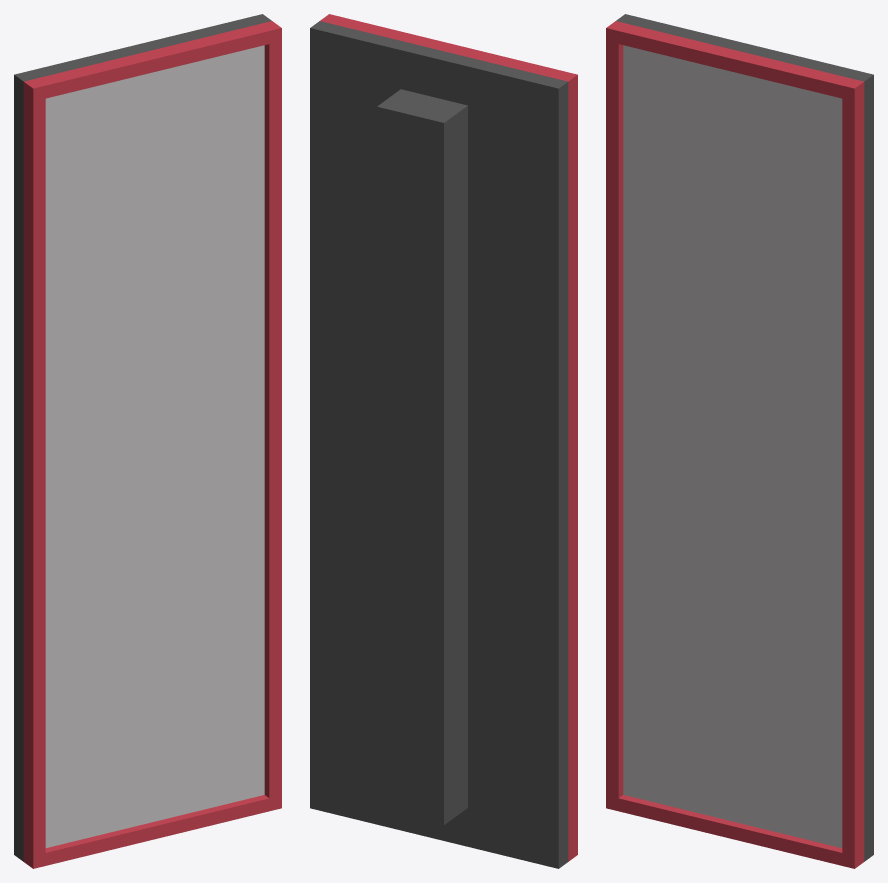
File: Wall Sign.fbx
The picture shows the model from 3 angles, left to right: view 1: azimuth 30°, elevation 25°; view 2: azimuth 150°, elevation 25°; view 3: azimuth 330°, elevation 25°; orthographic projection.
Parts seen in each view (by area): view 1: Wall Sign; view 2: Wall Sign; view 3: Wall Sign.
Boxes of the visible parts, x1=… form: Wall Sign: x1=14, y1=14, x2=281, y2=868; Wall Sign: x1=310, y1=14, x2=577, y2=868; Wall Sign: x1=606, y1=14, x2=873, y2=868.
Bounding box in the file's own units: 300 × 900 × 90.
